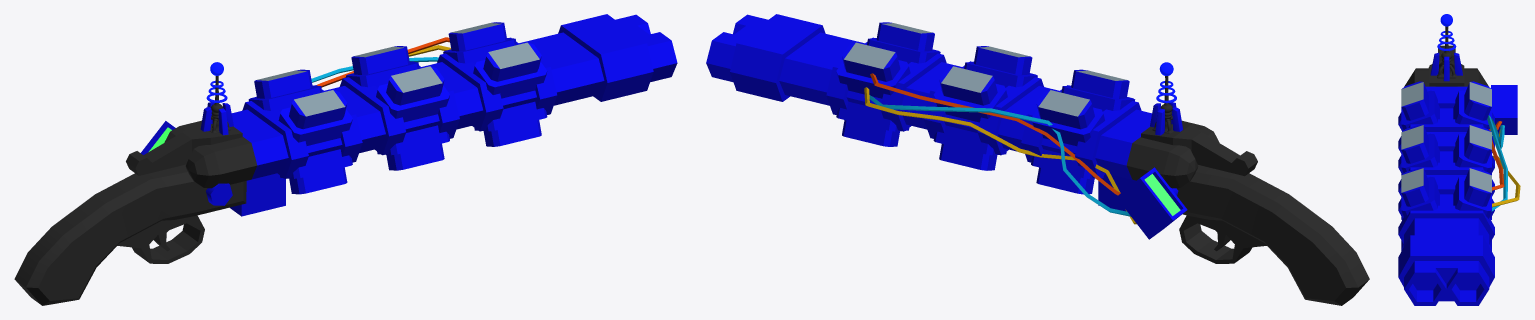
File: fucileApompa.fbx
3 views of the same model, side by side, from view 1: azimuth 30°, elevation 25°; view 2: azimuth 150°, elevation 25°; view 3: azimuth 270°, elevation 25° (orthographic). The views are drawn at different scales.
Visible parts, largest first — view 1: barrel, handle, wires, prop, posts_low; view 2: barrel, handle, wires, prop, posts_low; view 3: barrel, handle, prop, wires, posts_low, base_low, rings_low, tesla.001.
Boxes of the visible parts, <box> form: barrel: <box>230,14,677,216</box>; handle: <box>14,120,257,305</box>; wires: <box>311,37,450,87</box>; prop: <box>141,121,232,205</box>; posts_low: <box>200,102,233,135</box>; barrel: <box>706,14,1151,211</box>; handle: <box>1126,120,1369,305</box>; wires: <box>864,73,1136,224</box>; prop: <box>1116,167,1187,239</box>; posts_low: <box>1150,102,1182,135</box>; barrel: <box>1398,81,1494,305</box>; handle: <box>1404,45,1488,86</box>; prop: <box>1491,85,1517,134</box>; wires: <box>1487,115,1520,211</box>; posts_low: <box>1430,51,1462,81</box>; base_low: <box>1437,26,1456,78</box>; rings_low: <box>1437,31,1456,50</box>; tesla.001: <box>1440,14,1452,26</box>.
Size of the model in its own units: 75.44 by 22.46 by 13.87.
